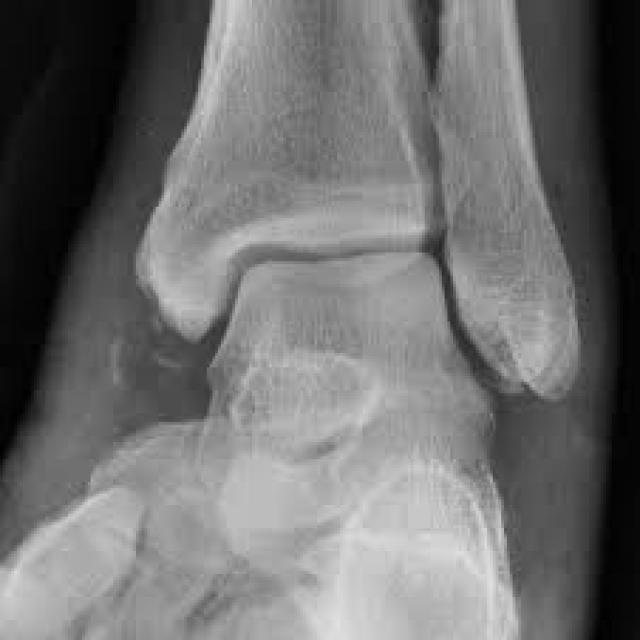Avulsion-fracture-: (116, 248, 260, 436)
